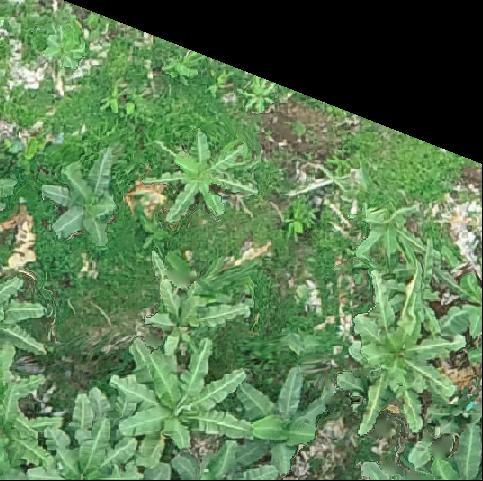Banana-plant: (342, 267, 461, 431), (110, 338, 243, 453), (223, 366, 321, 475), (140, 271, 251, 355), (148, 131, 247, 225), (46, 151, 122, 251), (32, 427, 143, 481)
